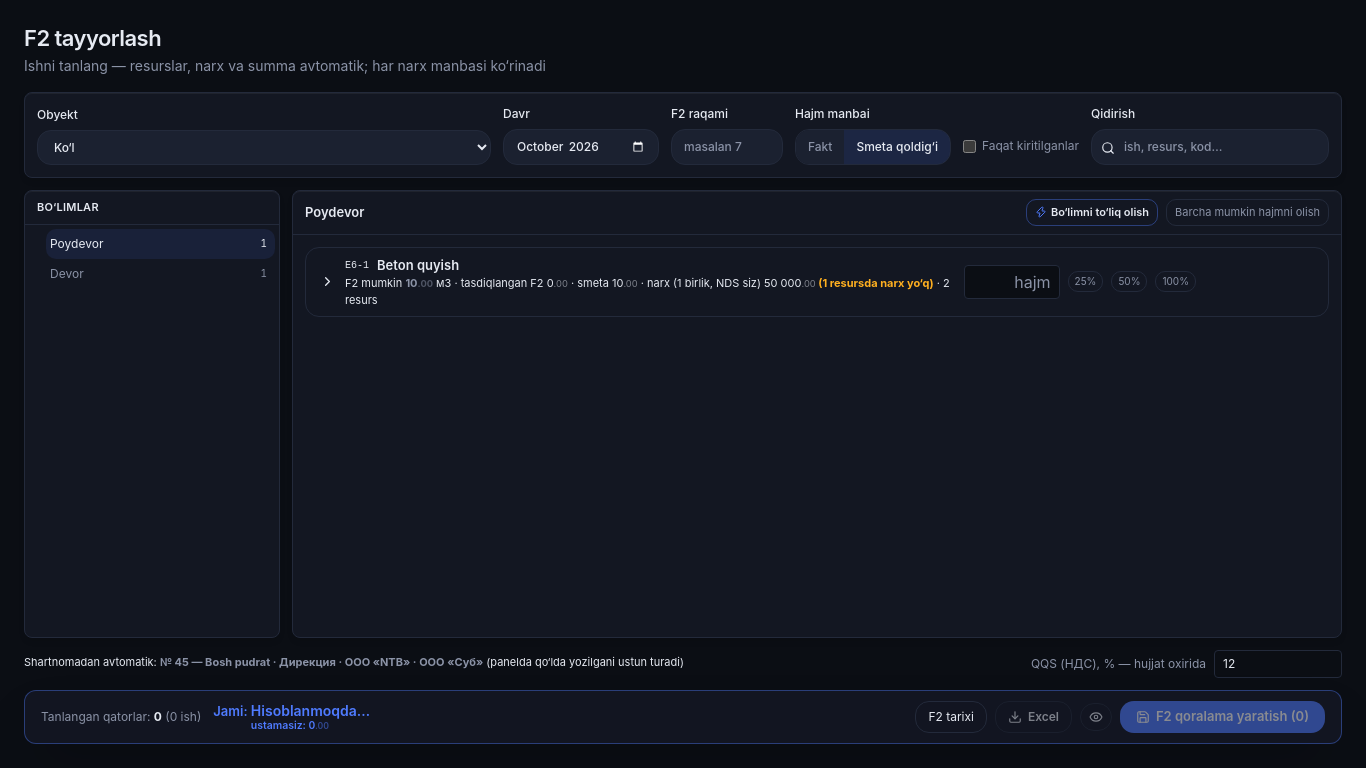
it: F2 tayyorlash › faktsiz rejim: fakt qoldig‘i yo‘q obyektda ham F2 yasaladi (chegara — smeta qoldig‘i), oshsa blok yo‘q
The image size is (1366, 768).
Check: the button "Smeta qoldig‘i" is shown, box top-left (844, 130), bottom-right (950, 164)
Type "12" into the field named "F2 hajmi: Beton quyish" at (1012, 282), box top-left (964, 265), bottom-right (1060, 299)
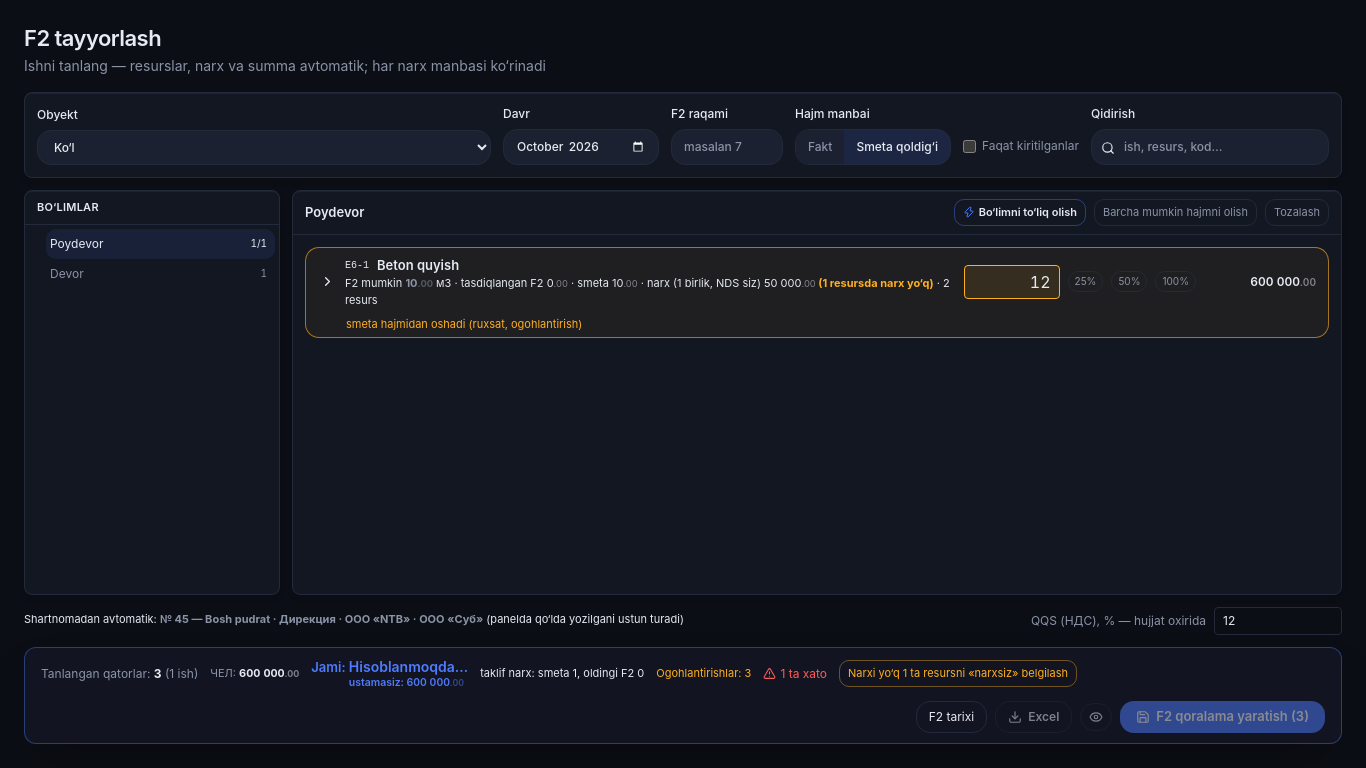
Check: the text "smeta hajmidan oshadi (ruxsat, ogohlantirish)" is shown, box top-left (346, 317), bottom-right (582, 331)
